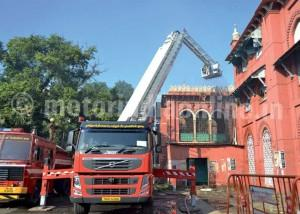Fire-engine: (68, 122, 159, 205), (0, 128, 54, 199)
